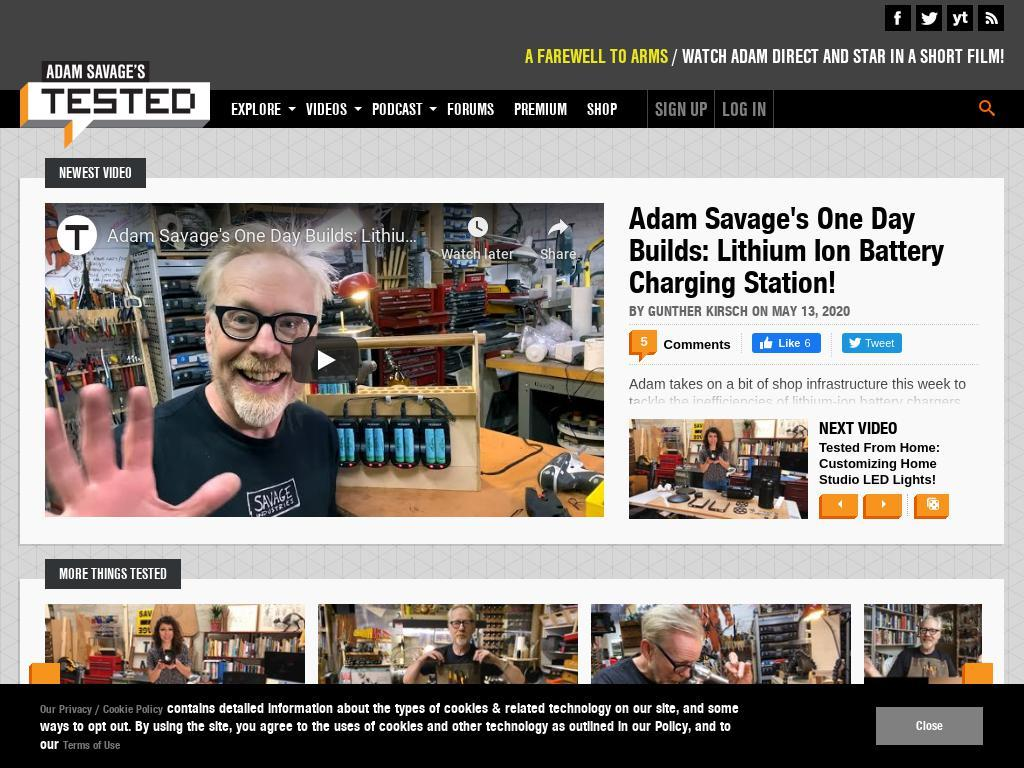button: (44, 604, 305, 768), (318, 604, 579, 768), (591, 604, 852, 768), (629, 203, 959, 299), (864, 604, 1024, 768), (525, 45, 1004, 67), (819, 440, 979, 488), (629, 333, 731, 355), (655, 98, 707, 120), (722, 98, 766, 120), (885, 5, 911, 31), (916, 5, 942, 31), (947, 5, 973, 31), (978, 5, 1004, 31)
field: (969, 90, 1004, 128)
iframe: (45, 203, 604, 518), (751, 333, 821, 353), (841, 333, 902, 353)
image: (44, 604, 305, 751), (318, 604, 579, 751), (591, 604, 852, 751), (864, 604, 1024, 751), (629, 419, 808, 519), (19, 132, 210, 153), (32, 663, 60, 716), (965, 663, 993, 716), (822, 494, 858, 516), (866, 494, 902, 516), (917, 494, 949, 516)
link: (629, 484, 968, 518), (40, 702, 163, 716), (514, 99, 567, 119), (231, 99, 281, 119), (372, 99, 422, 119), (447, 99, 494, 119), (306, 99, 347, 119), (63, 738, 120, 752), (587, 99, 617, 119)
text: (629, 376, 973, 500), (40, 699, 739, 753), (668, 45, 1004, 67), (44, 750, 305, 768), (318, 750, 579, 768), (591, 750, 852, 768), (875, 706, 984, 746), (45, 559, 181, 589), (674, 502, 924, 518), (525, 45, 668, 67), (45, 158, 146, 188), (819, 419, 979, 437), (864, 750, 1024, 768), (629, 302, 752, 320), (752, 302, 850, 320), (660, 337, 731, 352), (632, 330, 657, 352)
